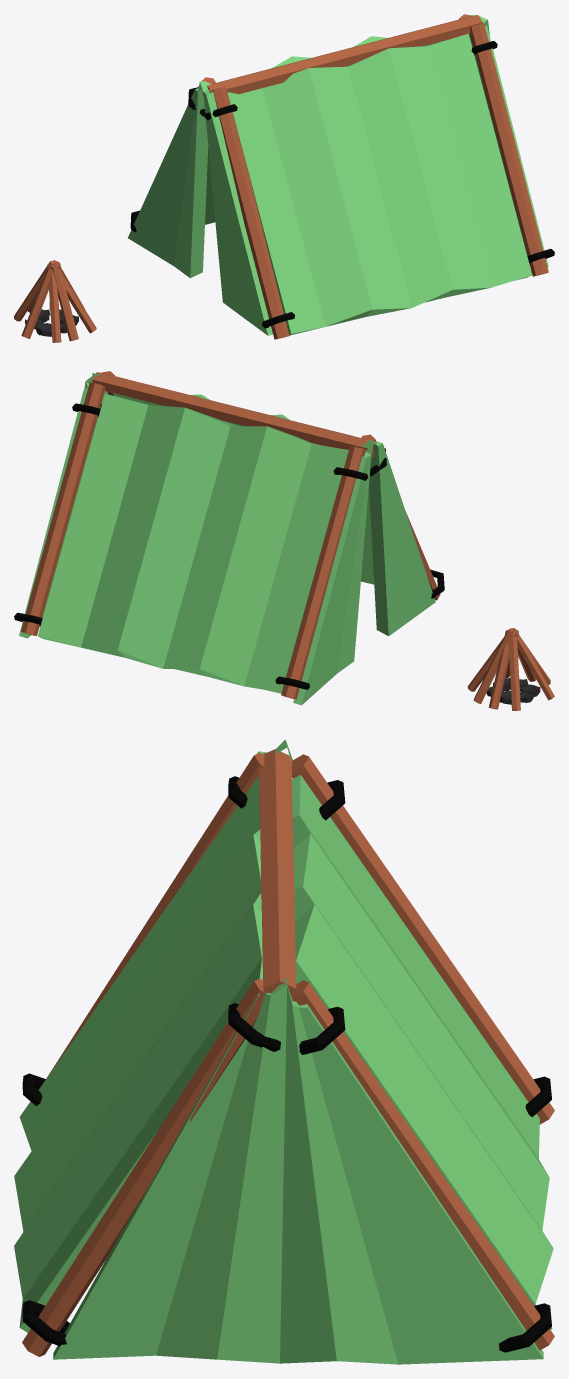
Rendered from tentandfire.fbx.
3 views of the same model, one above another, from view 1: azimuth 30°, elevation 25°; view 2: azimuth 150°, elevation 25°; view 3: azimuth 270°, elevation 25° (orthographic). The views are drawn at different scales.
Visible parts, largest first — view 1: Cylinder; view 2: Cylinder; view 3: Cylinder.
Part boxes in pixels (x1,y1,x2,y2): Cylinder: (14, 14, 554, 342); Cylinder: (14, 371, 554, 710); Cylinder: (14, 739, 554, 1364).
Size of the model in its own units: 7.75 by 3.39 by 4.32.
